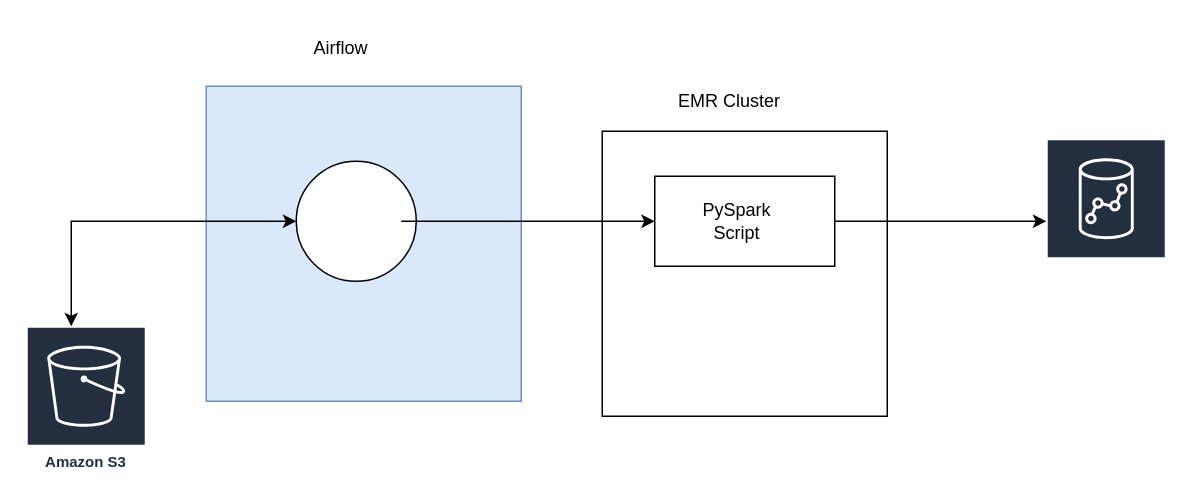
The diagram is 1193 pixels wide and 503 high, and some of its shapes have lost their labels. The shapes that lost their labels are listed below. From the top down, each one's centre as x and y in pixels, then its label:
(355,220): DAG
(1105,220): Amazon Redshift
